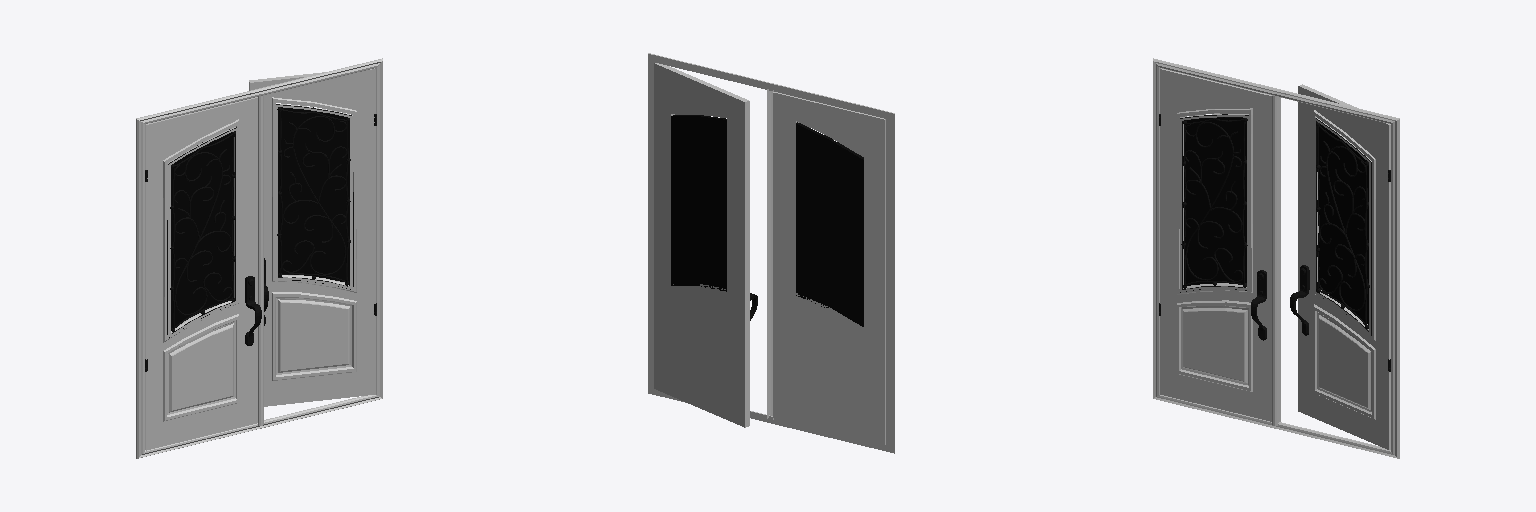
Rendered from door.obj.
The picture shows the model from 3 angles: view 1: azimuth 30°, elevation 25°; view 2: azimuth 150°, elevation 25°; view 3: azimuth 330°, elevation 25°; orthographic projection.
Visible parts, largest first — view 1: Plane.010, Plane.014, DoorFrame; view 2: Plane.010, Plane.014, DoorFrame; view 3: Plane.010, Plane.014, DoorFrame.
Boxes of the visible parts, <box> form: Plane.010: <box>146,97,261,450</box>; Plane.014: <box>249,68,375,406</box>; DoorFrame: <box>136,58,382,458</box>; Plane.010: <box>773,92,885,444</box>; Plane.014: <box>654,63,757,427</box>; DoorFrame: <box>648,53,894,453</box>; Plane.010: <box>1160,68,1271,421</box>; Plane.014: <box>1290,84,1390,449</box>; DoorFrame: <box>1153,58,1399,458</box>.
Size of the model in its own units: 1.25 by 1.65 by 0.2624.